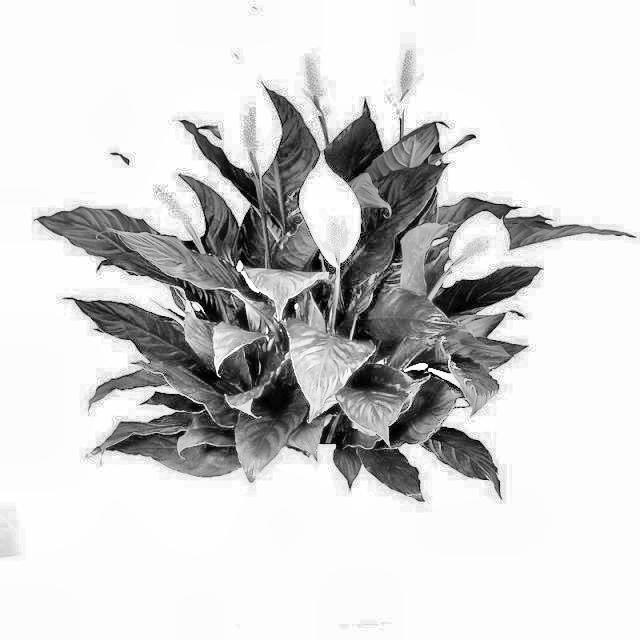plants: (33, 110, 634, 500)
